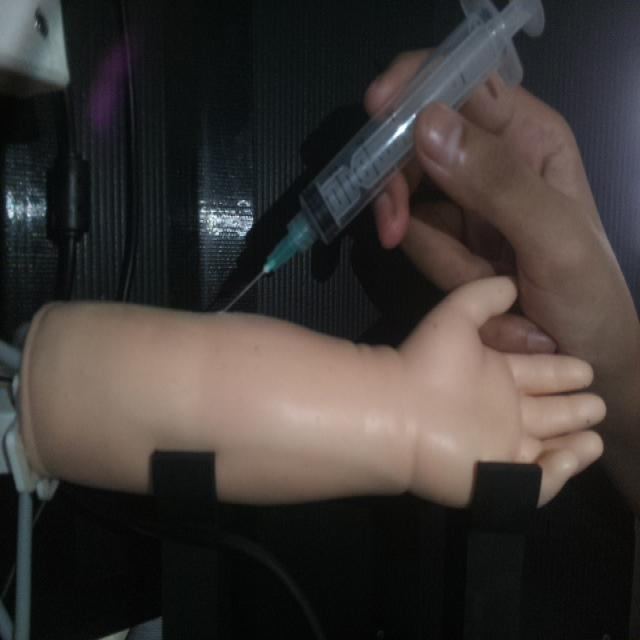Outside: (213, 0, 550, 315)
